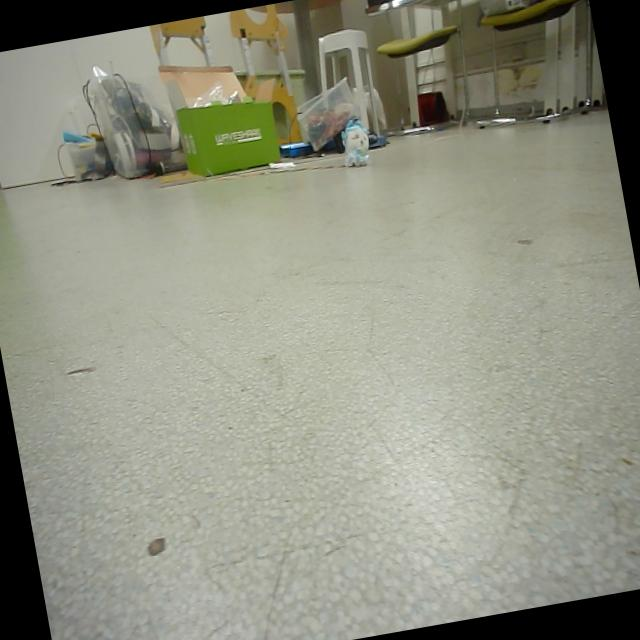xiaoba: (336, 110, 378, 173)
